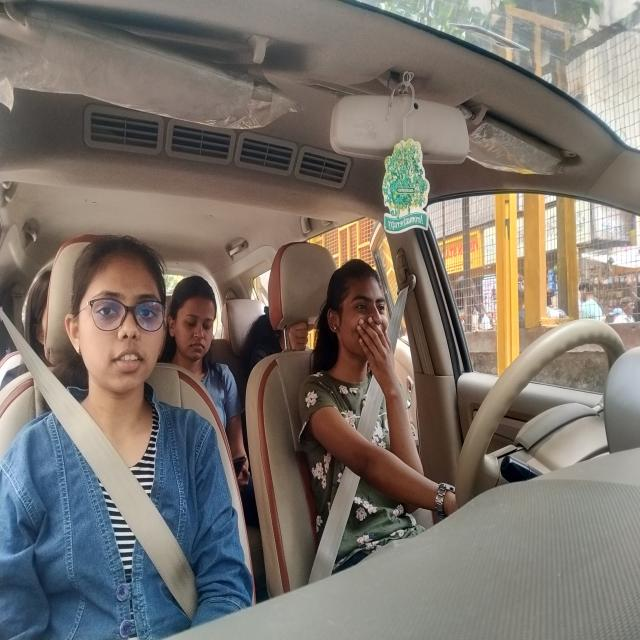drowsy: (320, 252, 388, 368)
person: (64, 235, 168, 398), (170, 272, 218, 366), (24, 262, 50, 372)
